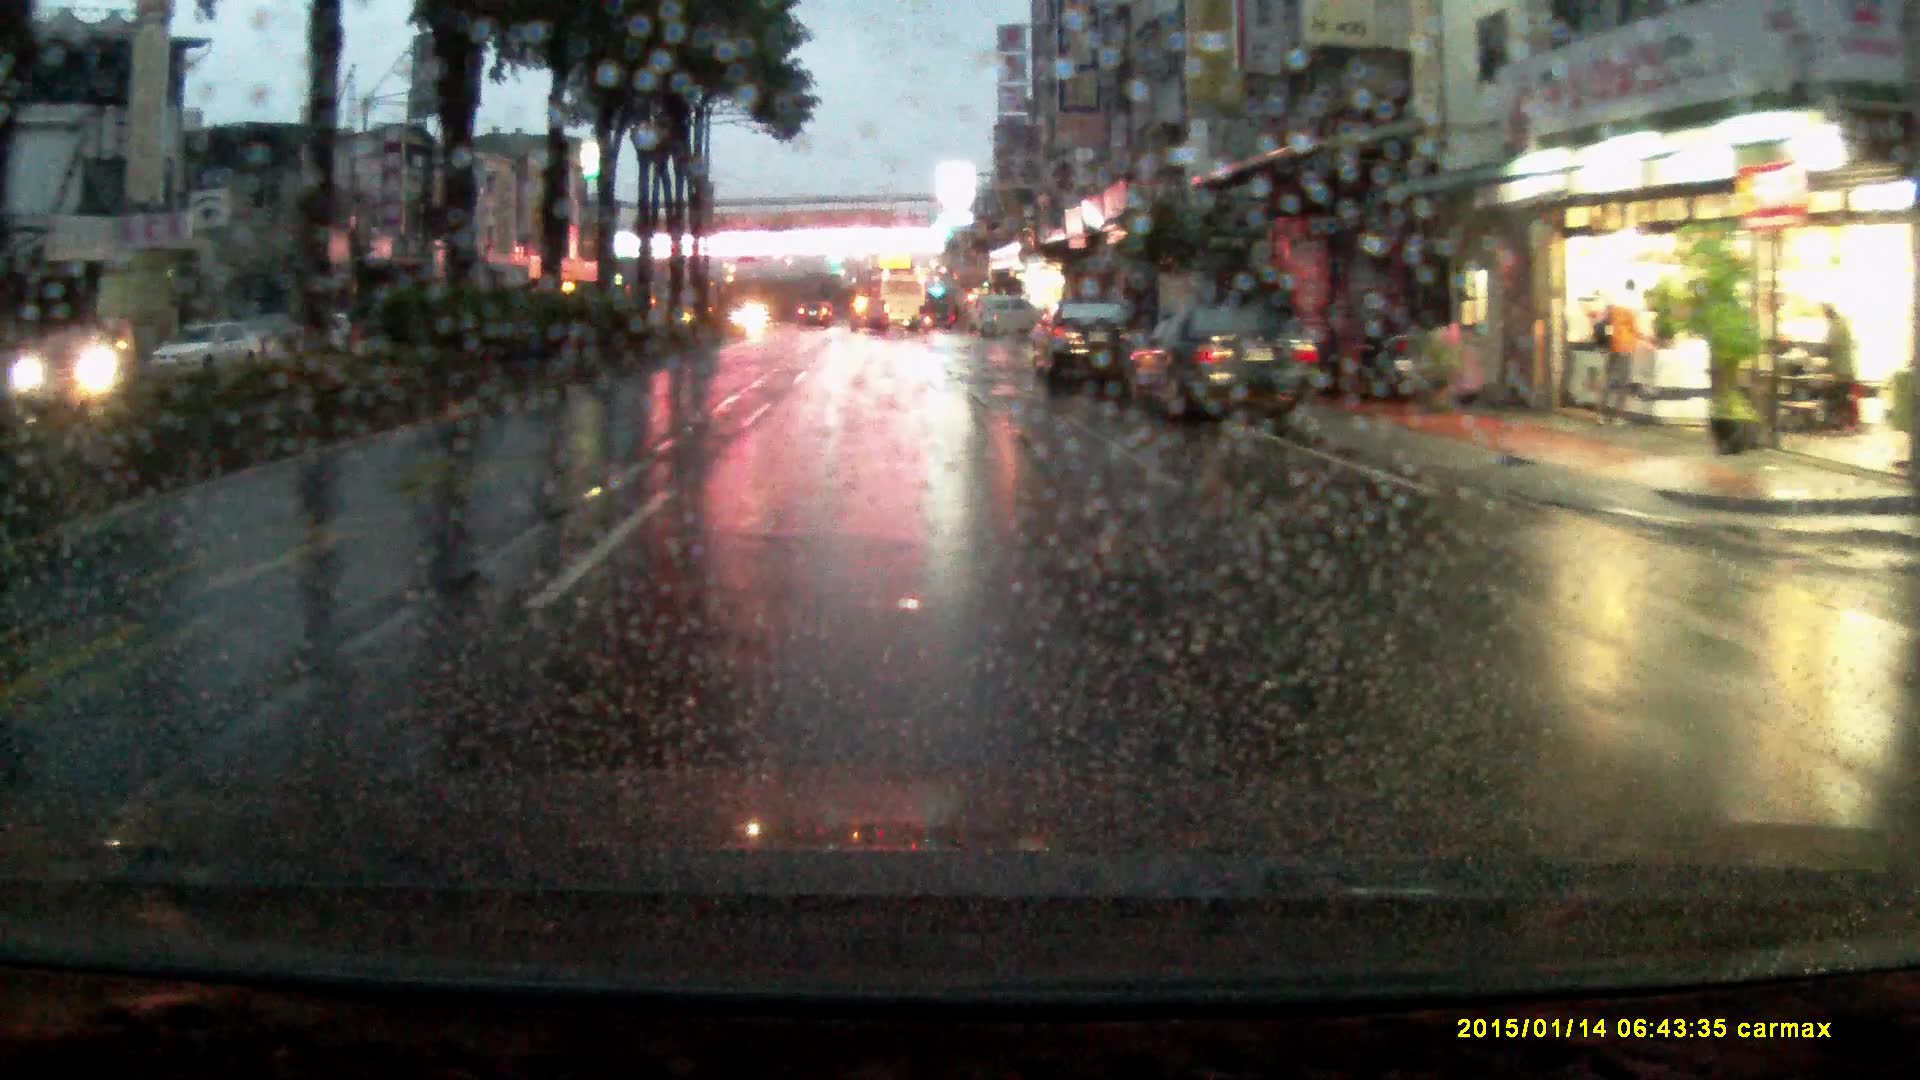vehicle: (1118, 305, 1329, 427), (1038, 299, 1150, 402), (149, 319, 268, 385), (968, 299, 1048, 344), (869, 277, 926, 335), (851, 295, 891, 334), (798, 301, 831, 328)
